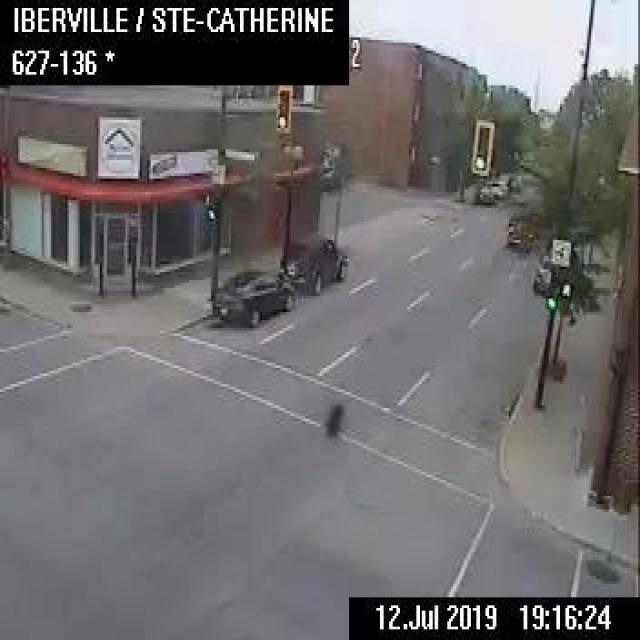vehicle: (214, 268, 294, 323), (277, 234, 348, 293), (506, 212, 530, 244), (487, 178, 508, 197), (477, 183, 492, 203)
